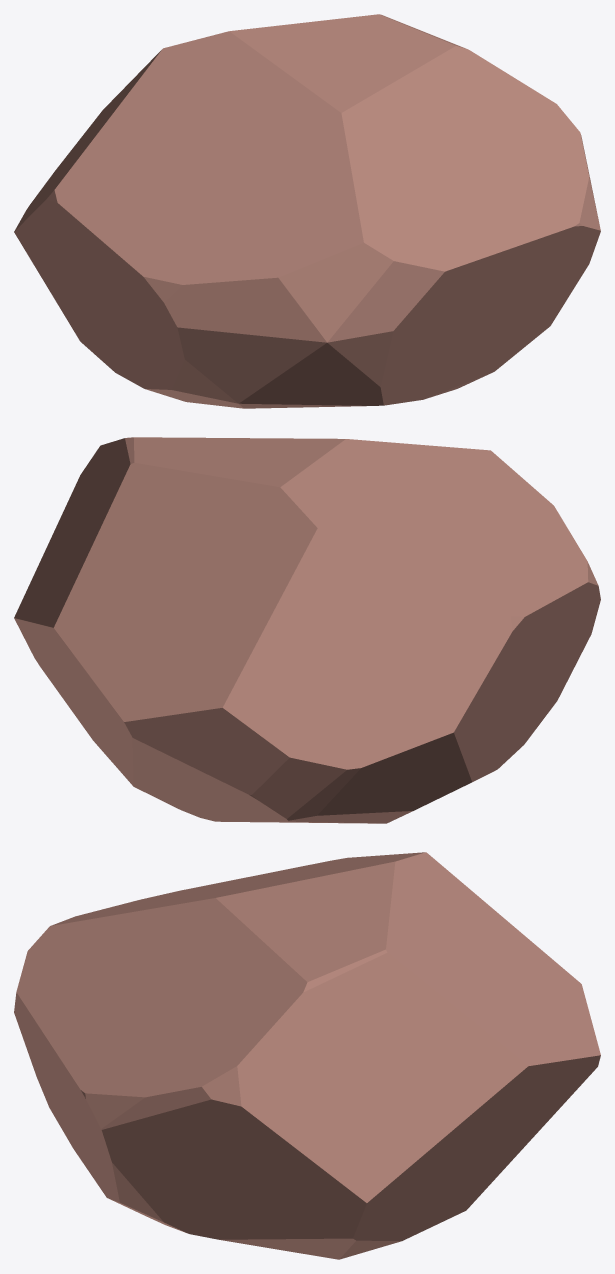
Rendered from Mesa_Rock_Mid.fbx.
3 renders of one model, top to bottom at view 1: azimuth 30°, elevation 25°; view 2: azimuth 150°, elevation 25°; view 3: azimuth 270°, elevation 25°, orthographic. The views are drawn at different scales.
Visible parts, largest first — view 1: Icosphere.055; view 2: Icosphere.055; view 3: Icosphere.055.
Part boxes in pixels (left/top/right/bottom): Icosphere.055: left=14, top=14, right=600, bottom=408; Icosphere.055: left=14, top=437, right=600, bottom=823; Icosphere.055: left=14, top=852, right=600, bottom=1259.
Size of the model in its own units: 103 by 68.6 by 108.
